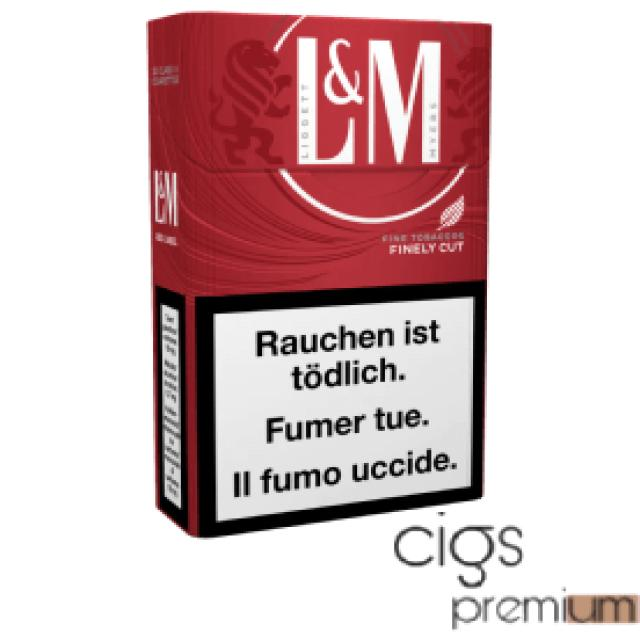lm: (135, 18, 504, 540)
